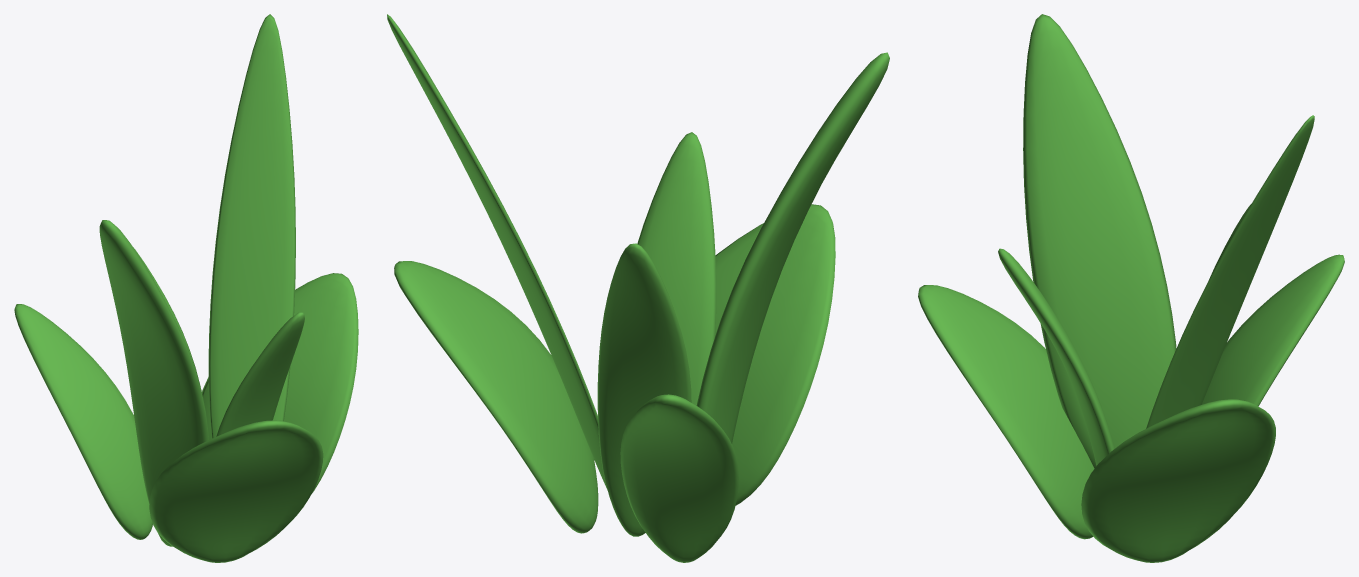
File: GRASS3.fbx
3 views of the same model, side by side, from view 1: azimuth 30°, elevation 25°; view 2: azimuth 150°, elevation 25°; view 3: azimuth 270°, elevation 25° (orthographic). The views are drawn at different scales.
Visible parts, largest first — view 1: Plane.002; view 2: Plane.002; view 3: Plane.002.
Boxes of the visible parts, x1=… form: Plane.002: x1=14, y1=14, x2=358, y2=562; Plane.002: x1=387, y1=14, x2=889, y2=562; Plane.002: x1=918, y1=14, x2=1344, y2=562.
Bounding box in the file's own units: 59.06 × 77.63 × 60.18.
